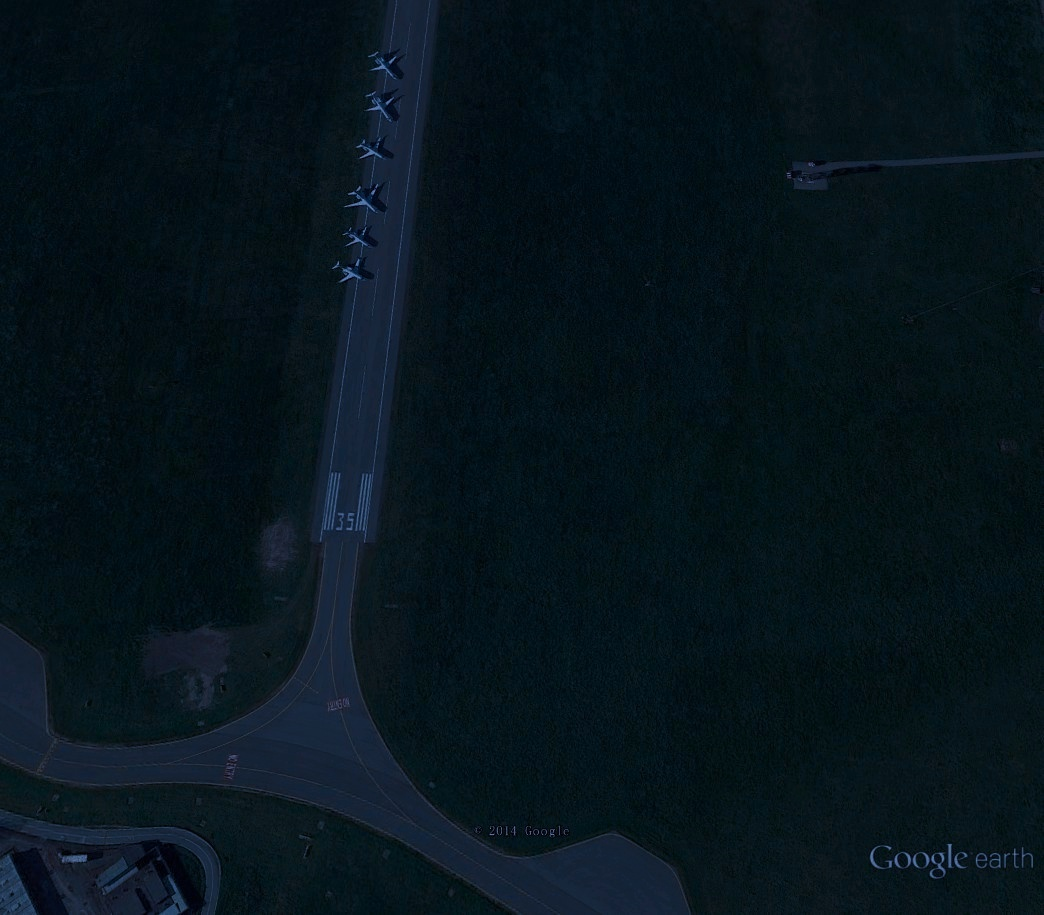aircraft: (361, 86, 403, 124), (341, 181, 386, 216), (365, 49, 405, 88), (329, 255, 372, 289), (351, 134, 393, 165), (340, 223, 377, 251)
